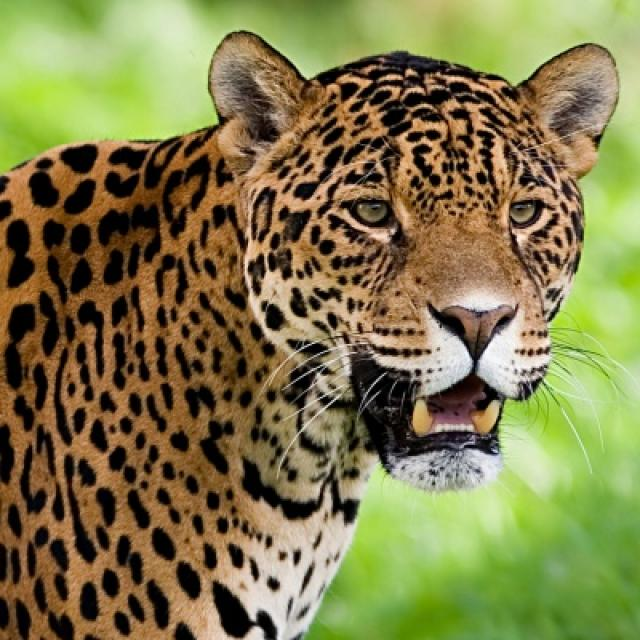Jaguar: (0, 29, 621, 638)
